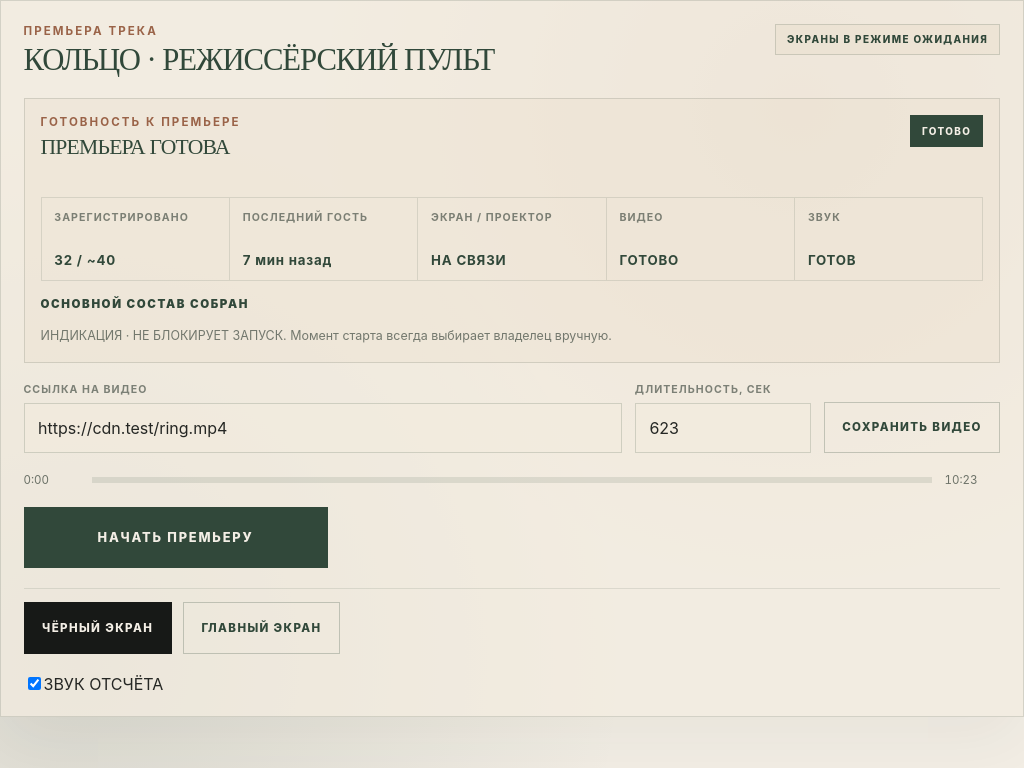
it: AdminPremiereControl › does not invite a duplicate start when RPC succeeds but realtime refresh fails
Step 1. Click the button "НАЧАТЬ ПРЕМЬЕРУ" → click(176, 537), box [24,507,328,568]
(page scrolled)
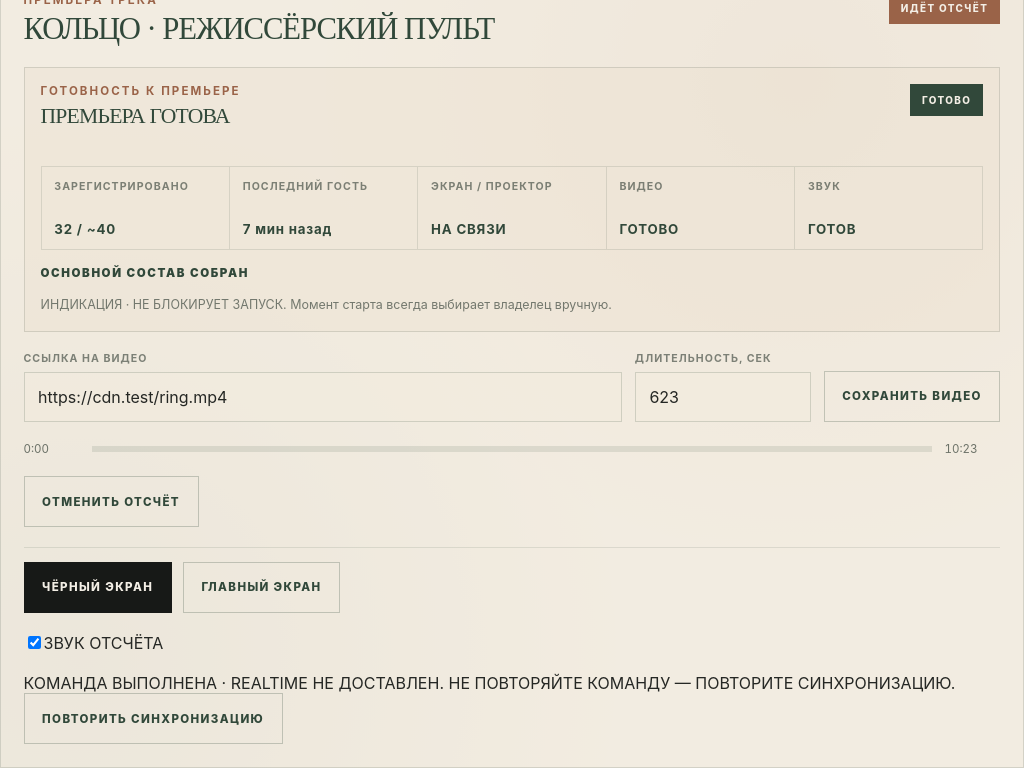
Now the text "КОМАНДА ВЫПОЛНЕНА" is shown, box [24,673,955,693]
Now the button "НАЧАТЬ ПРЕМЬЕРУ" is gone
Step 2. Click the button "ПОВТОРИТЬ СИНХРОНИЗАЦИЮ" → click(153, 719), box [24,693,283,744]
(page scrolled)
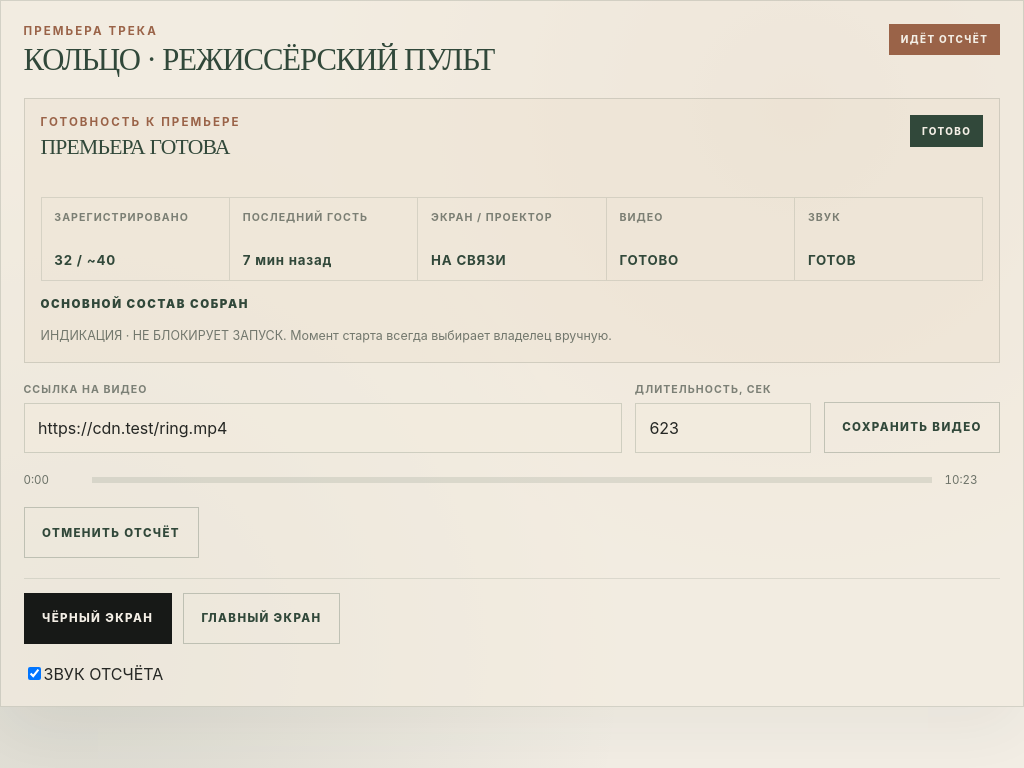
Now the button "ПОВТОРИТЬ СИНХРОНИЗАЦИЮ" is gone
